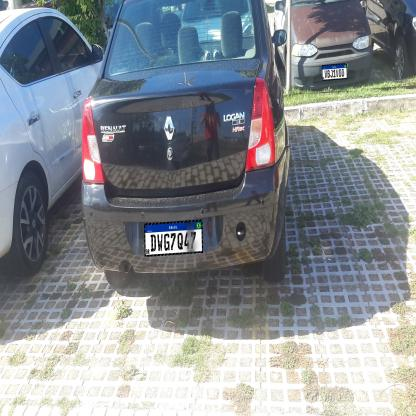PlacaM: (144, 219, 203, 256), (322, 63, 347, 80)
